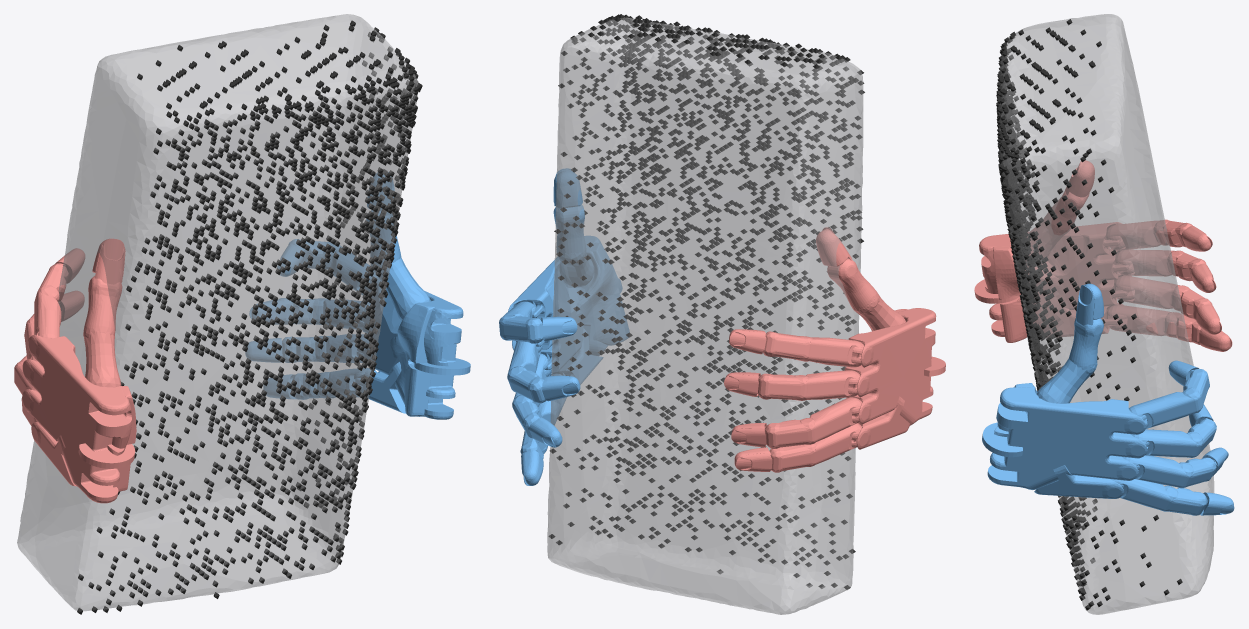
The model's file is ddg_ycb_004_sugar_box_scale024_inference.glb.
The picture shows the model from 3 angles, left to right: view 1: azimuth 30°, elevation 25°; view 2: azimuth 150°, elevation 25°; view 3: azimuth 270°, elevation 25°; orthographic projection. The views are drawn at different scales.
Parts seen in each view (by area): view 1: object_mesh_visualization_only, object_pointcloud, left_shadow_hand, right_shadow_hand; view 2: object_mesh_visualization_only, object_pointcloud, left_shadow_hand, right_shadow_hand; view 3: object_mesh_visualization_only, right_shadow_hand, left_shadow_hand, object_pointcloud.
Part boxes in pixels (<box>): object_mesh_visualization_only: <box>17,14,418,611</box>; object_pointcloud: <box>77,20,422,614</box>; left_shadow_hand: <box>14,238,136,503</box>; right_shadow_hand: <box>245,172,470,419</box>; object_mesh_visualization_only: <box>547,17,863,614</box>; object_pointcloud: <box>549,14,864,589</box>; left_shadow_hand: <box>724,227,945,472</box>; right_shadow_hand: <box>499,168,629,485</box>; object_mesh_visualization_only: <box>999,14,1214,614</box>; right_shadow_hand: <box>982,283,1234,515</box>; left_shadow_hand: <box>974,160,1232,351</box>; object_pointcloud: <box>996,19,1182,610</box>.
Bounding box in the file's own units: 0.3112 × 0.4296 × 0.1988.
